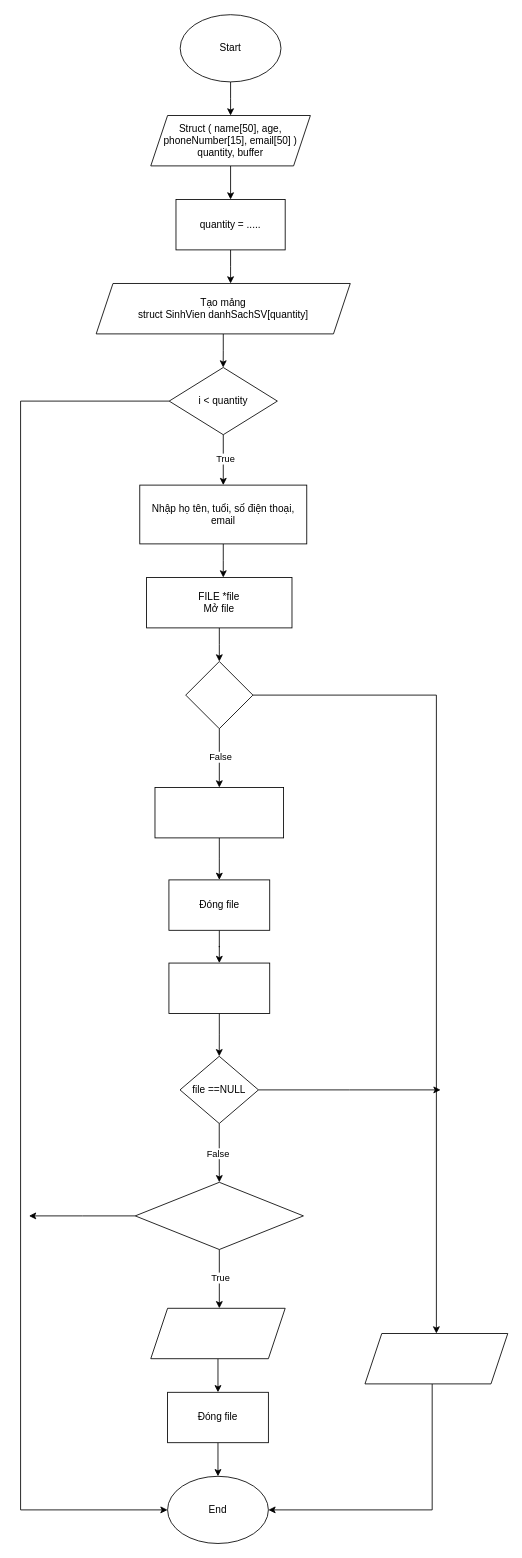
Some shapes in this 522 by 1558 pixel diagram are drawn without their labels. Each missing label, with the box of its shape:
buffer = fgetc(file)) != EOF: (134, 1181, 303, 1250)
file == NULL: (185, 661, 253, 729)
Ghi thông tin vừa nhập file bằng fprintf: (154, 787, 284, 838)
Hiển thi danh sách SV lên màn hình: (150, 1307, 285, 1359)
Khong the mo file: (364, 1333, 508, 1384)
Mở file để hiển thi lên chương trình: (168, 962, 270, 1013)
